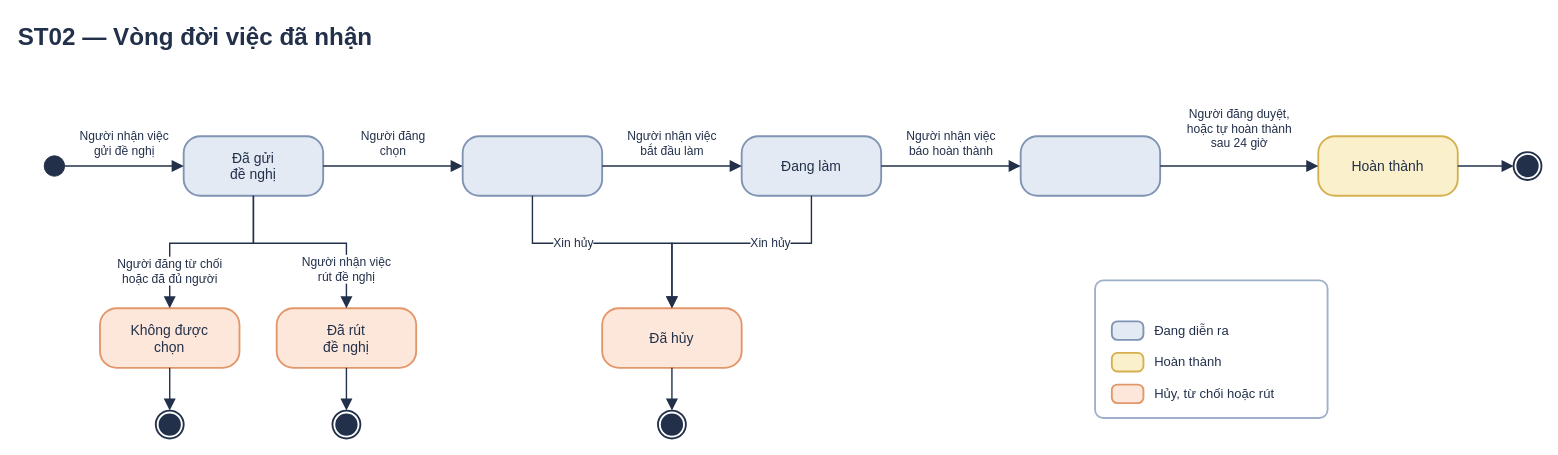
Image size: 1558x455. Some labels were removed from this diagram. The box of each missing label's shape, as (x1, y1, x2, y2) in pixels:
Chú thích: (1094, 279, 1328, 418)
Đã báo xong: (1019, 135, 1161, 196)
Được chọn: (461, 135, 603, 196)
